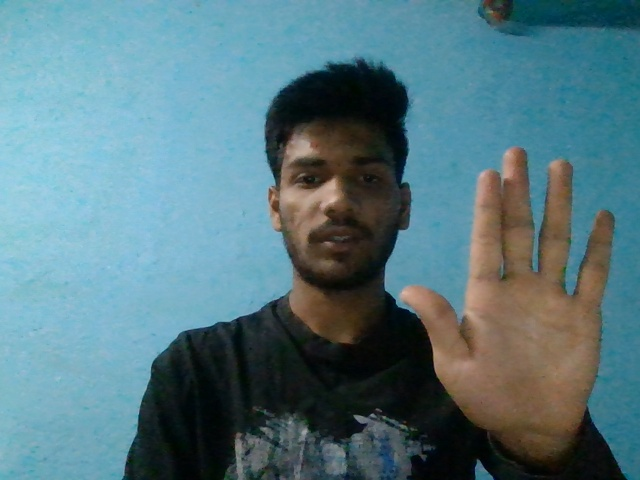Hello: (399, 147, 616, 437)
